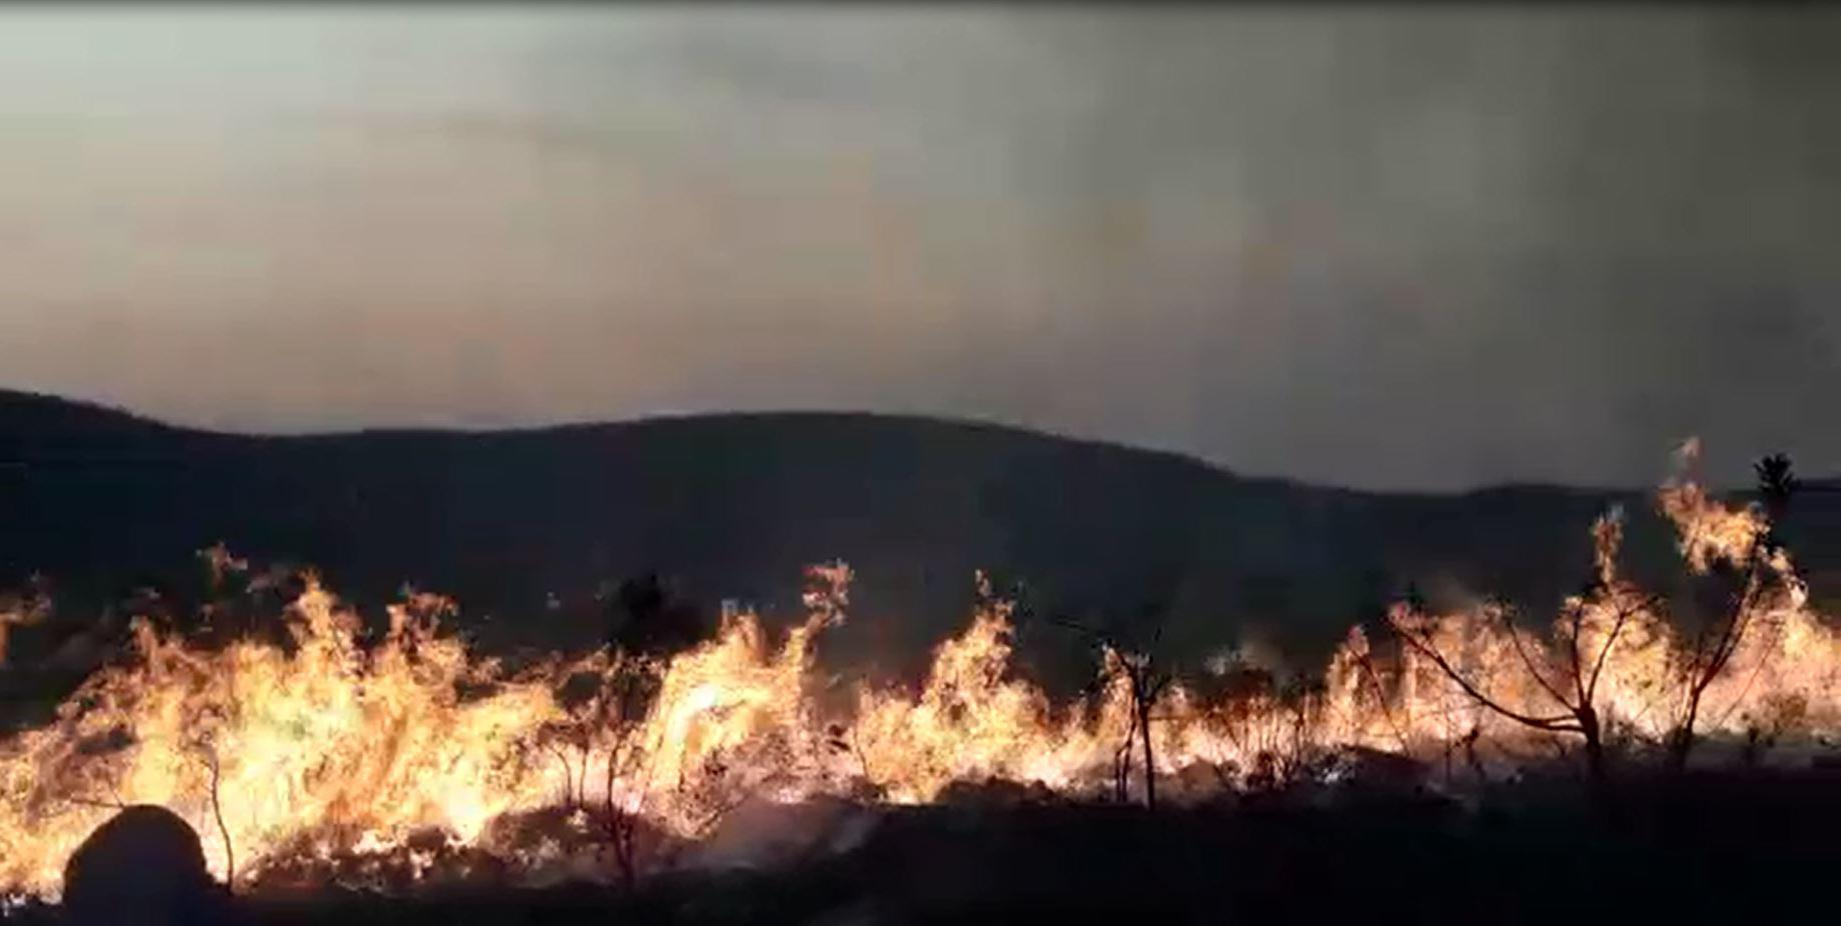Fire: (5, 438, 1837, 906)
